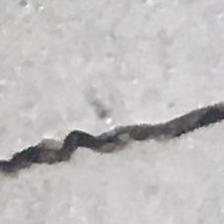Crack: (0, 99, 224, 183)
